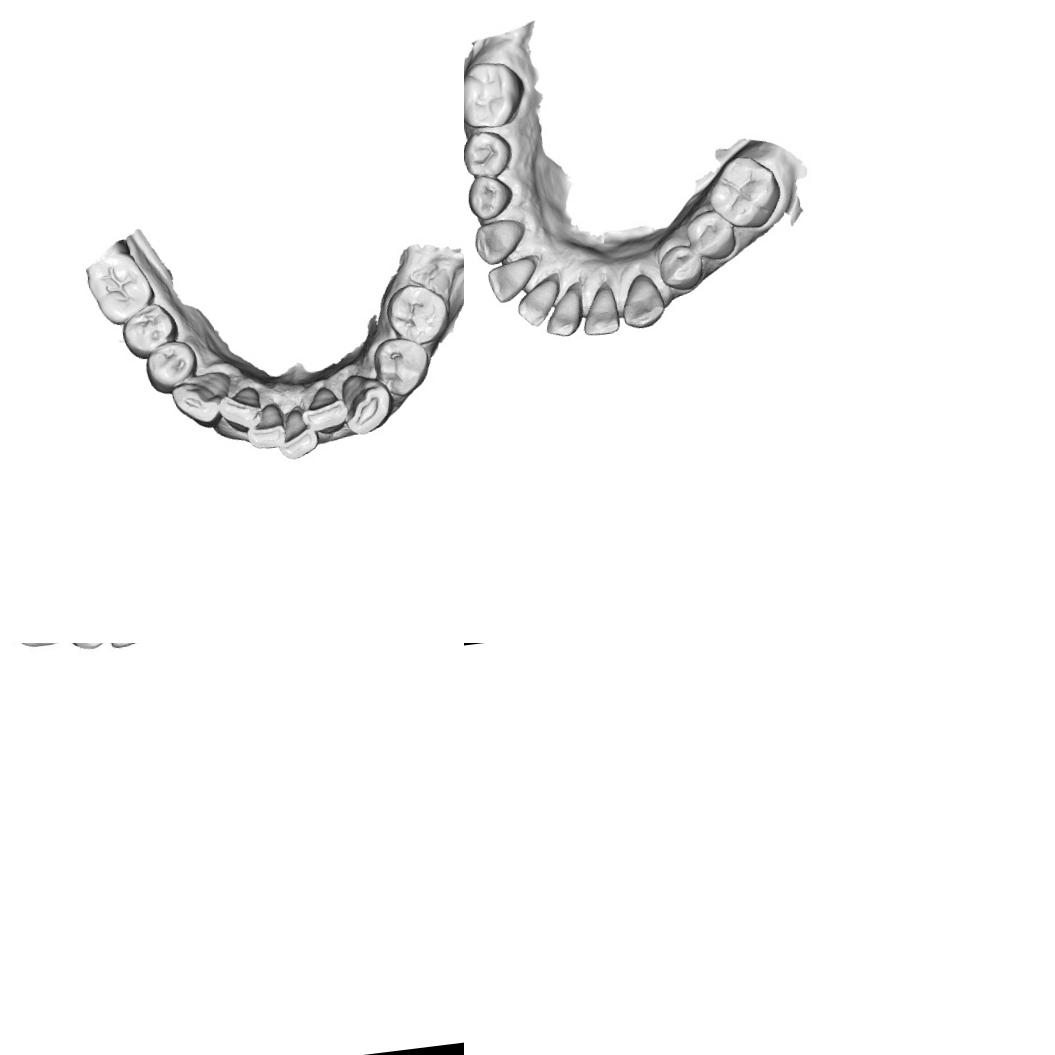canine: (168, 367, 236, 432), (338, 368, 395, 438), (615, 270, 669, 333), (470, 216, 530, 268)
incisor: (298, 380, 350, 438), (484, 255, 540, 306), (513, 275, 564, 330), (539, 285, 589, 340), (274, 405, 322, 462), (577, 284, 622, 340), (217, 384, 265, 432), (244, 406, 288, 453)
molar: (701, 150, 786, 233), (82, 247, 158, 330), (464, 56, 530, 133)
premolar: (384, 280, 452, 350), (370, 332, 433, 400), (118, 300, 182, 362), (143, 337, 199, 398), (682, 206, 739, 265), (654, 241, 707, 294), (464, 170, 516, 223), (464, 126, 513, 182)
